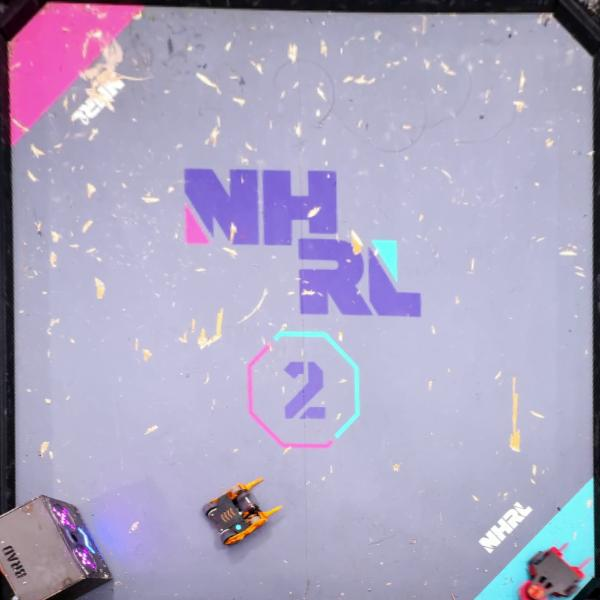housebot: (0, 494, 114, 599)
robot: (201, 476, 283, 546), (519, 540, 594, 600)
